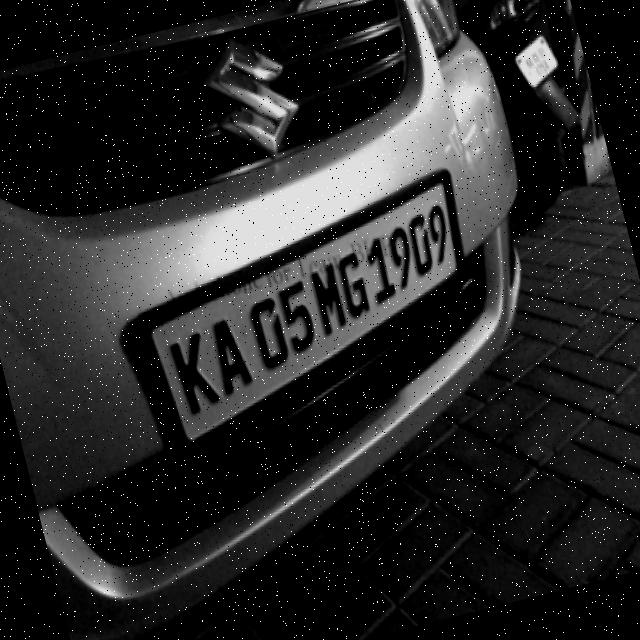Autre: (134, 169, 468, 463)
